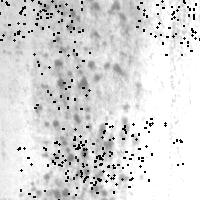pitted_surface: (35, 3, 138, 198), (168, 1, 198, 185), (122, 118, 182, 177), (45, 128, 105, 187), (94, 121, 151, 179), (33, 49, 89, 108), (78, 135, 135, 192), (58, 123, 113, 181), (17, 147, 76, 200), (136, 0, 195, 42), (24, 0, 82, 41), (161, 0, 200, 59), (19, 0, 78, 31), (0, 0, 26, 39)
